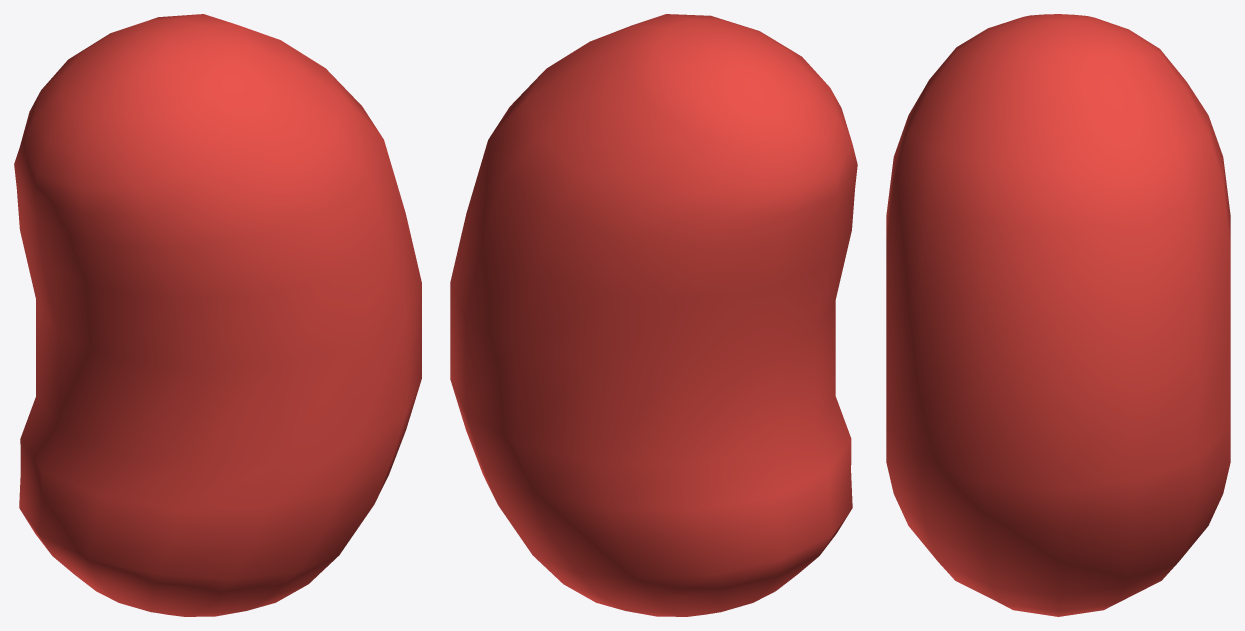
Rendered from jellybean.fbx.
3 renders of one model, left to right at view 1: azimuth 30°, elevation 25°; view 2: azimuth 150°, elevation 25°; view 3: azimuth 270°, elevation 25°, orthographic. The views are drawn at different scales.
Visible parts, largest first — view 1: polySurface1; view 2: polySurface1; view 3: polySurface1.
Part boxes in pixels (x1,y1,x2,y2): polySurface1: (14, 14, 421, 616); polySurface1: (450, 14, 857, 616); polySurface1: (886, 14, 1230, 616).
Bounding box in the file's own units: 1.08 × 1.62 × 0.9068.
